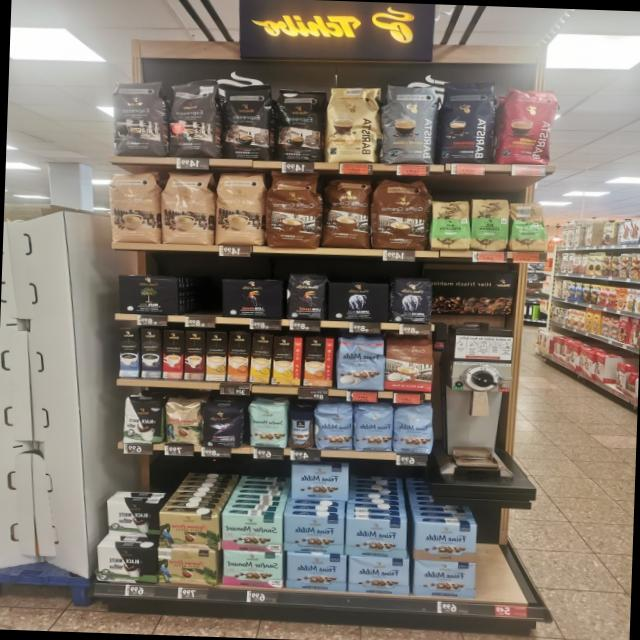AB Bohne: (390, 277, 432, 325)
AB Gemahlen: (326, 280, 390, 322)
Athiopien Bohne: (508, 202, 549, 252)
Athiopien Gemahlen: (470, 196, 509, 252), (429, 198, 470, 250)
BM Gemahlen: (116, 274, 180, 315)
BW Bohne: (120, 396, 162, 446)
BW Gemahlen: (94, 544, 156, 584), (102, 499, 160, 536)
Barista CB: (324, 84, 381, 164)
Barista CC: (380, 84, 438, 164)
Barista Espresso: (436, 78, 496, 164)
Barista Kolumbien: (494, 84, 558, 166)
C Fino Bohne: (200, 400, 245, 448)
CC Mild: (106, 167, 160, 243), (213, 170, 266, 246), (160, 170, 214, 244)
CC Vollmundig: (384, 336, 432, 392)
CC Vollmundig 36 Pads: (265, 170, 321, 248), (373, 177, 430, 250), (322, 176, 373, 248)
Colombia BB Bohne: (164, 399, 202, 446)
Colombia BB Gemahlen: (156, 510, 218, 550), (156, 547, 216, 586)
Empty Shelf: (180, 268, 218, 316)
Espresso Kraftig: (218, 82, 272, 160), (274, 88, 326, 162)
Espresso M Art: (111, 77, 167, 156), (167, 76, 220, 157)
FM 36 Pads: (336, 336, 386, 390)
FM Bohne: (392, 404, 434, 454), (352, 404, 393, 452), (314, 403, 354, 450)
FM Gemahlen: (414, 520, 478, 562), (412, 560, 478, 600), (344, 517, 407, 557), (346, 555, 409, 595), (284, 552, 346, 592), (282, 514, 344, 554), (290, 463, 349, 501)
FM Instant: (286, 408, 314, 449)
LG Bohne: (286, 274, 328, 322)
LG Gemahlen: (218, 278, 283, 318)
SM Bohne: (246, 402, 286, 446)
SM Gemahlen: (222, 549, 284, 588), (220, 513, 282, 551)
Simo CCMild: (272, 336, 302, 384)
Simo CCMild bigpack: (248, 332, 273, 383)
Simo CCVollmundig: (304, 336, 332, 386)
Simo CCVollmundig bigpack: (227, 332, 250, 381)
Simo Decaff: (205, 331, 226, 381)
Simo Es Brazil: (162, 329, 184, 379)
Simo Es Caramel: (183, 330, 206, 380)
Simo Es Kraft: (140, 328, 162, 378)
Simo Es Vanilla: (118, 327, 140, 377)
